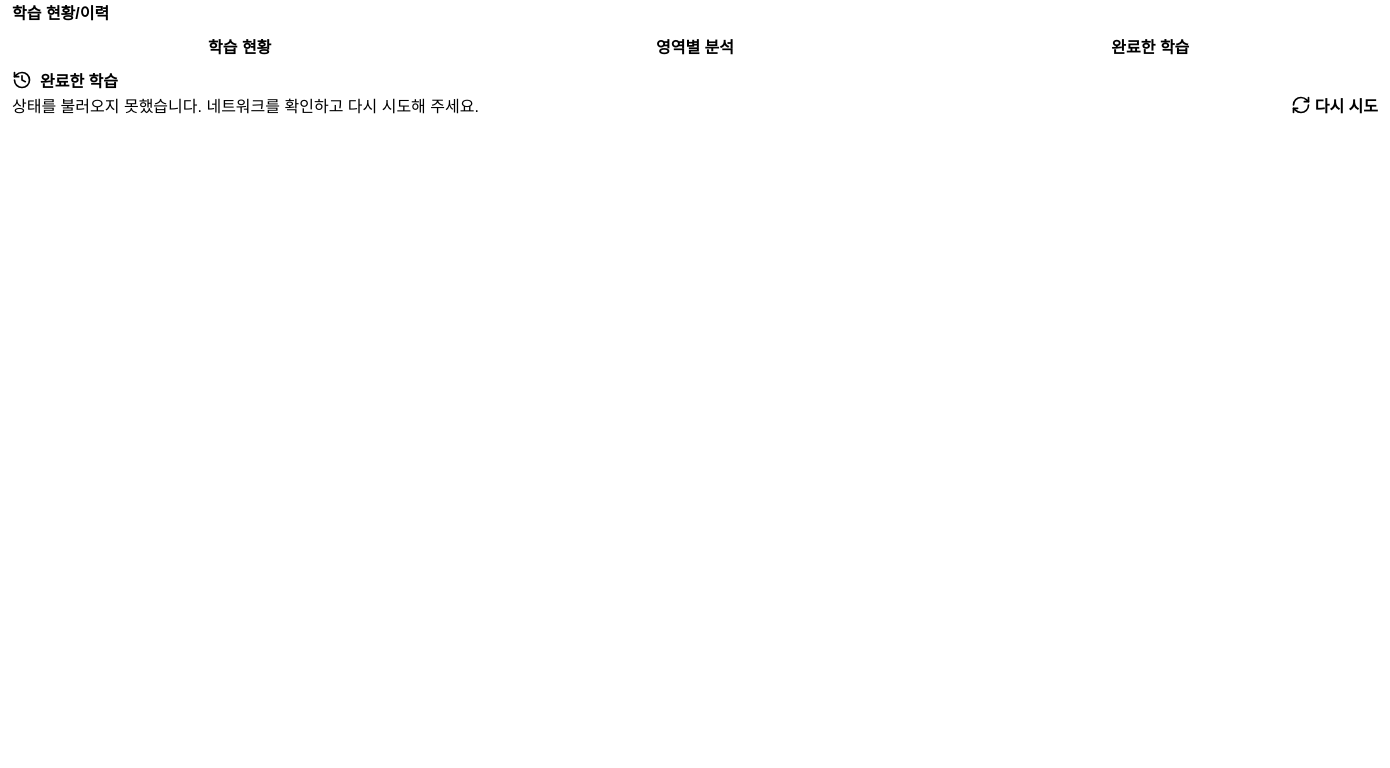
Test case: 비동기 상태 및 오류/재시도 (AC 3) › 조회 실패 시 nav를 숨기고 오류와 다시 시도를 노출하며, 재시도 시 복구된다
expect the text "상태를 불러오지 못했습니다. 네트워크를 확인하고 다시 시도해 주세요." is shown: met, box [12,98,479,115]
Click the button "다시 시도": point(1334, 105) [1291,92,1378,118]
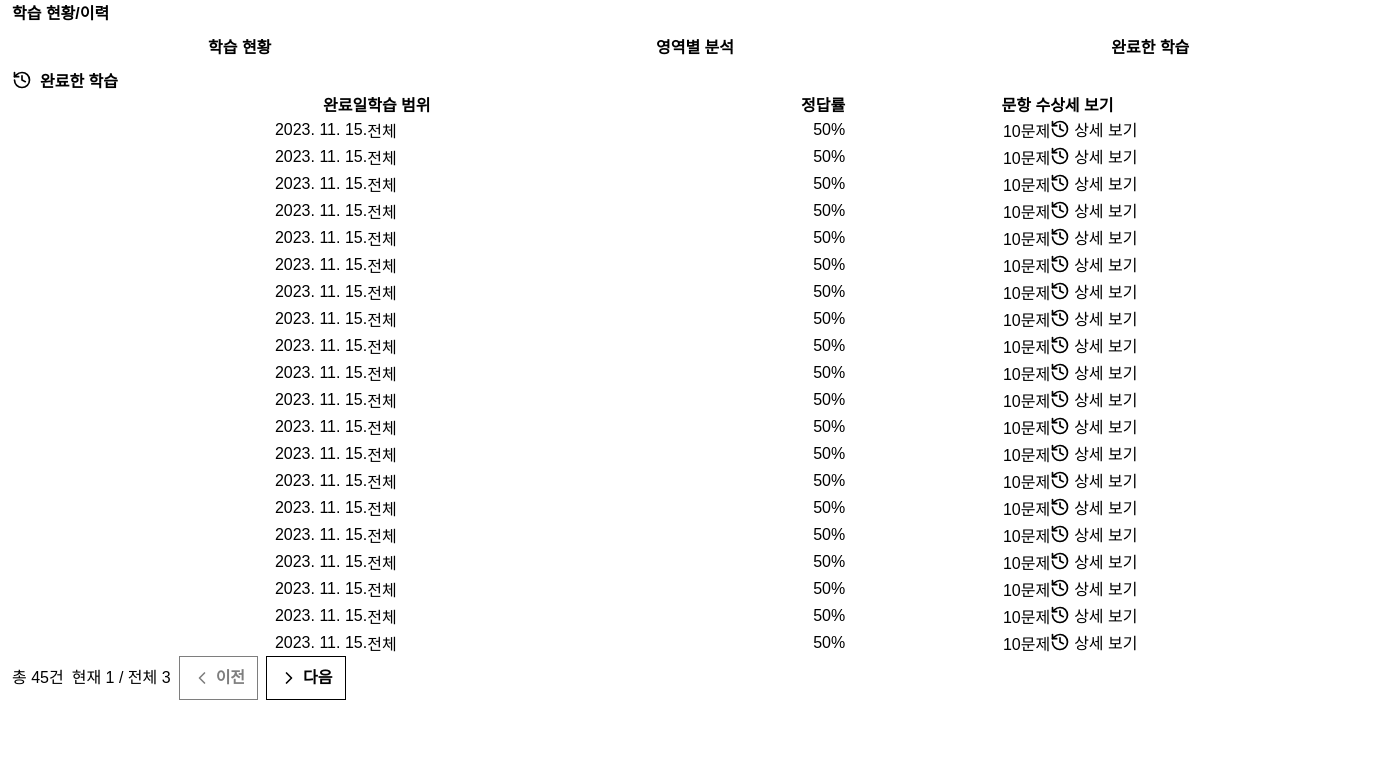
expect the text "총 45건" is shown: met, box [12,667,64,689]
expect the navigation bar named "페이지네이션" is shown: met, box [12,656,346,700]
